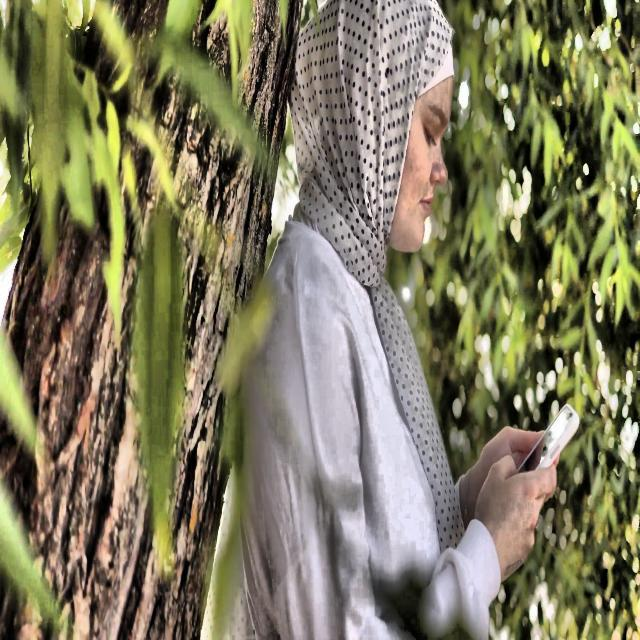Phone: (512, 398, 581, 478)
